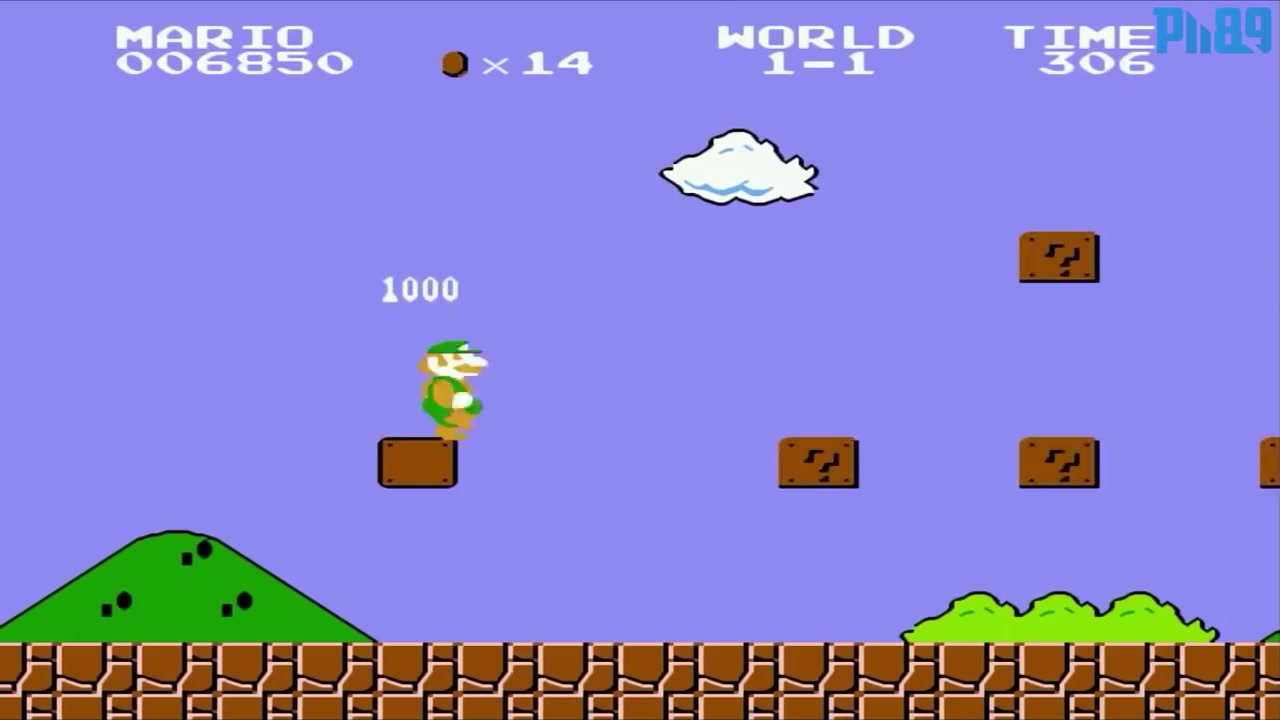mario: (414, 328, 495, 455)
